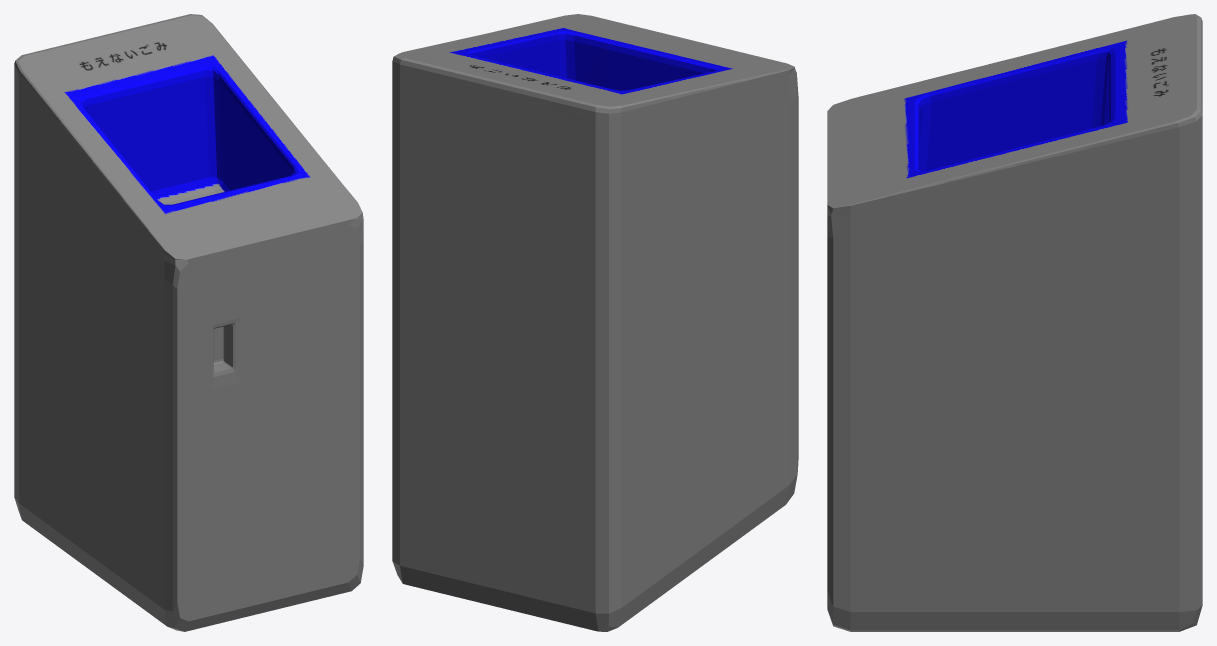
File: garbage_blue.fbx
3 views of the same model, side by side, from view 1: azimuth 30°, elevation 25°; view 2: azimuth 150°, elevation 25°; view 3: azimuth 270°, elevation 25° (orthographic). The views are drawn at different scales.
Parts seen in each view (by area): view 1: Cube; view 2: Cube; view 3: Cube.
Boxes of the visible parts, x1,y1,x2,y2 form: Cube: [14, 14, 363, 631]; Cube: [392, 14, 798, 631]; Cube: [827, 14, 1202, 631].
Size of the model in its own units: 107 by 244 by 159.
